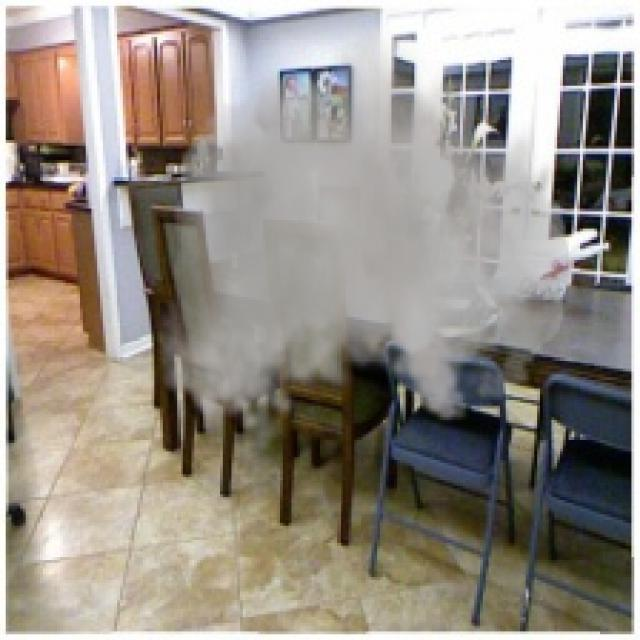Smoke: (157, 17, 569, 434)
